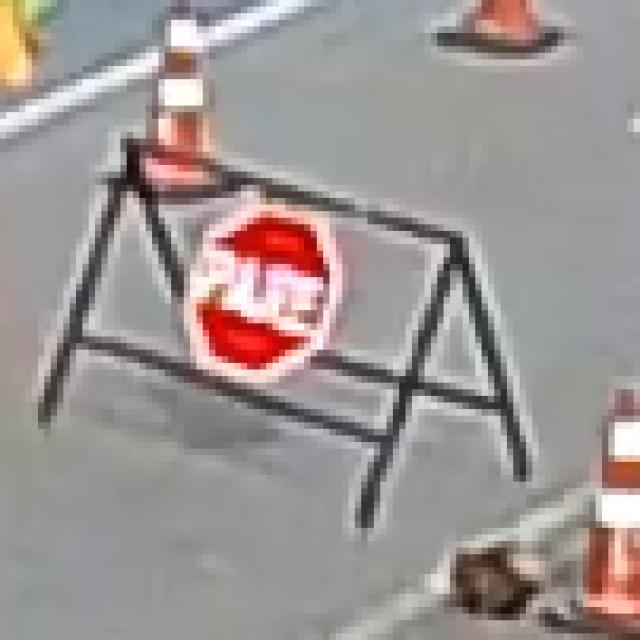small_cone: (139, 0, 228, 198), (583, 389, 634, 620)
stop_sign: (177, 205, 349, 389)
